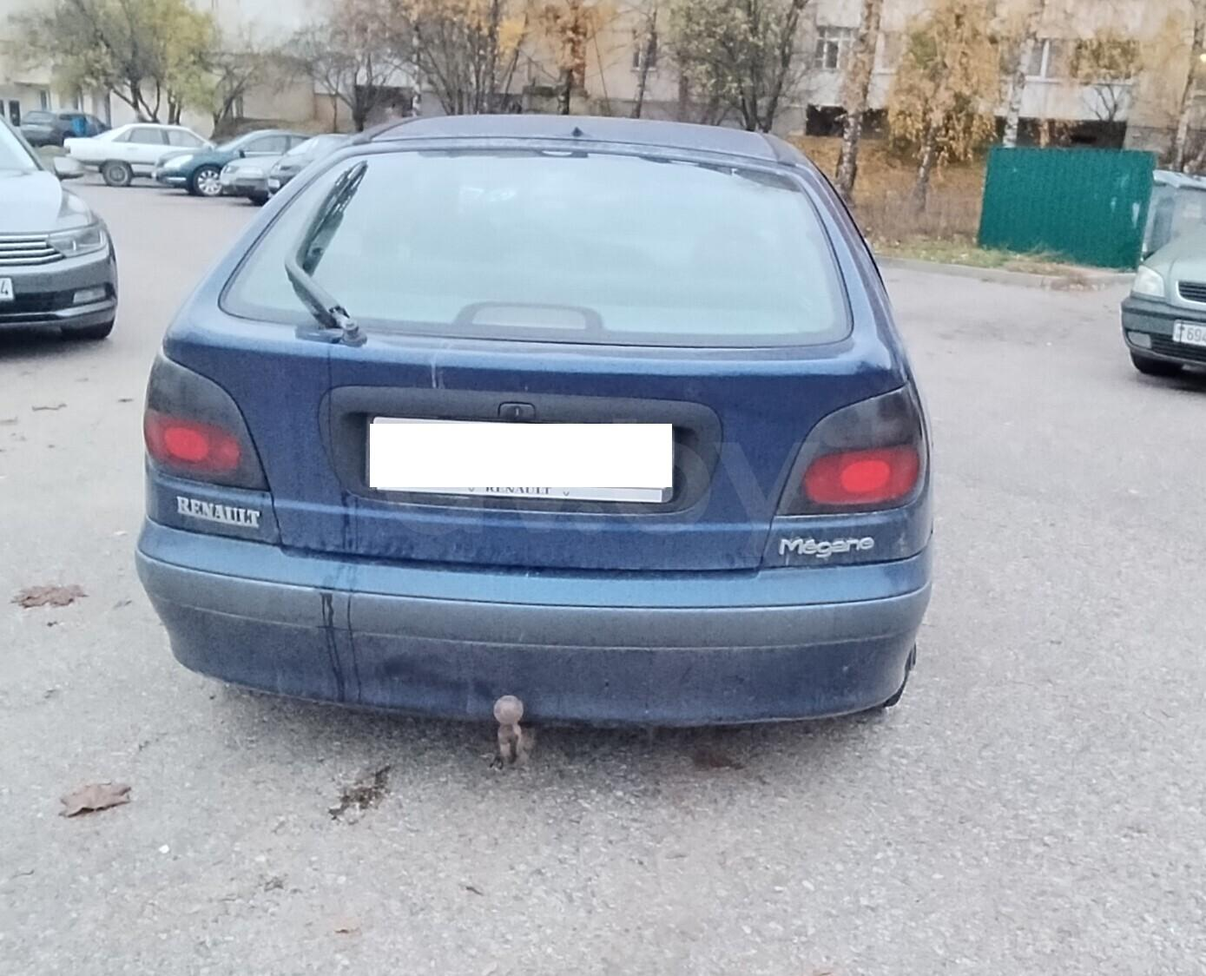Megane_1995-1999: (135, 99, 944, 760)
